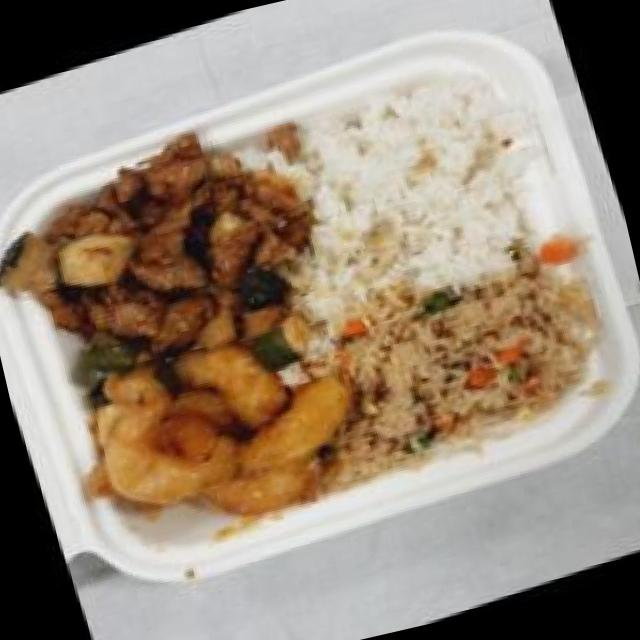Fried Rice: (292, 220, 638, 488)
Honey Walnut Shrimp: (35, 296, 387, 580)
Kung Pao Chicken: (0, 101, 343, 418)
White Steamed Rice: (270, 50, 560, 310)
